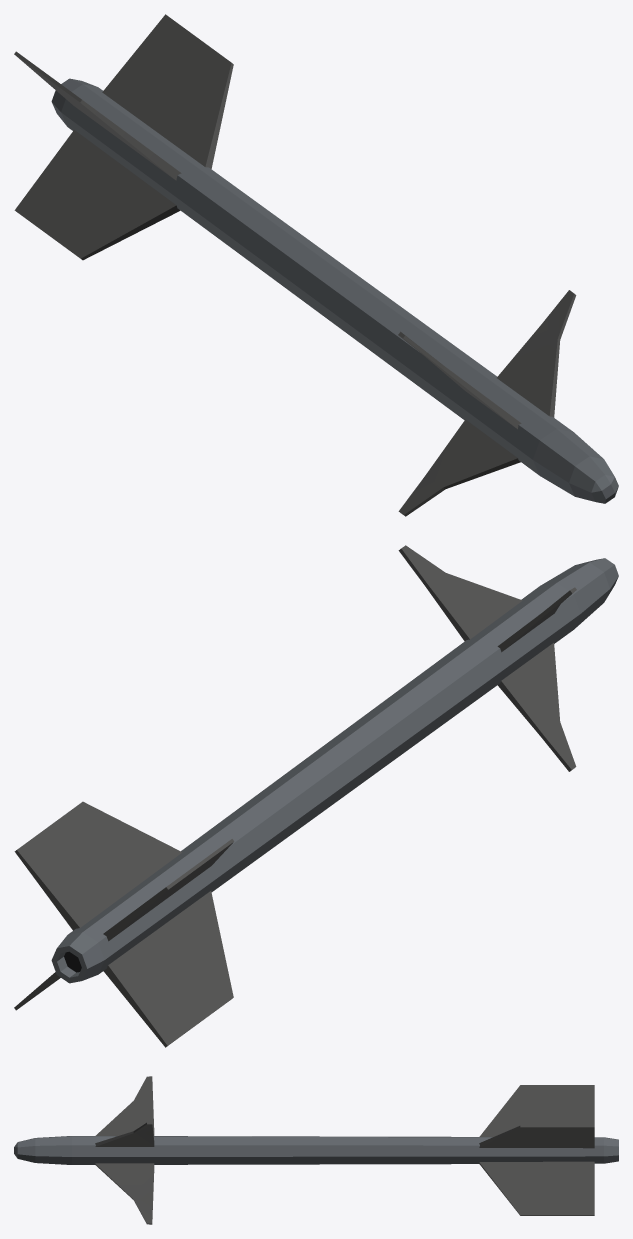
Rendered from SM_Veh_Heli_Attach_Missle_01.fbx.
3 views of the same model, one above another, from view 1: azimuth 30°, elevation 25°; view 2: azimuth 150°, elevation 25°; view 3: azimuth 270°, elevation 25° (orthographic). The views are drawn at different scales.
Parts seen in each view (by area): view 1: SM_Veh_Heli_Attach_Missle_01; view 2: SM_Veh_Heli_Attach_Missle_01; view 3: SM_Veh_Heli_Attach_Missle_01.
Boxes of the visible parts, left/top/right/bottom form: SM_Veh_Heli_Attach_Missle_01: left=14, top=14, right=618, bottom=516; SM_Veh_Heli_Attach_Missle_01: left=14, top=545, right=618, bottom=1047; SM_Veh_Heli_Attach_Missle_01: left=14, top=1076, right=618, bottom=1224.
Size of the model in its own units: 54.67 by 54.67 by 292.
